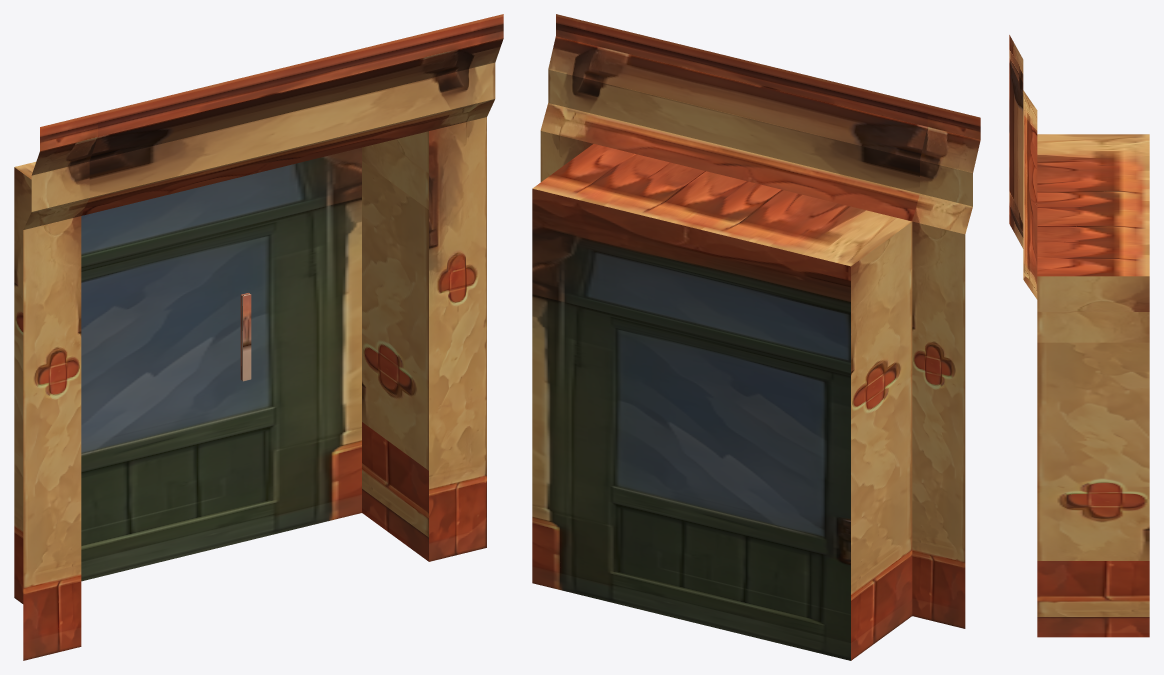
File: MSN_G_Entry4.fbx
The picture shows the model from 3 angles, left to right: view 1: azimuth 30°, elevation 25°; view 2: azimuth 150°, elevation 25°; view 3: azimuth 270°, elevation 25°; orthographic projection. The views are drawn at different scales.
Parts seen in each view (by area): view 1: MSN_G_Entry4; view 2: MSN_G_Entry4; view 3: MSN_G_Entry4.
Part boxes in pixels (x1,y1,x2,y2): MSN_G_Entry4: [14, 14, 503, 660]; MSN_G_Entry4: [532, 14, 980, 660]; MSN_G_Entry4: [1009, 35, 1149, 637].
Bounding box in the file's own units: 4 × 1.25 × 4.5.
Materials: 1 (1 with a texture image).
